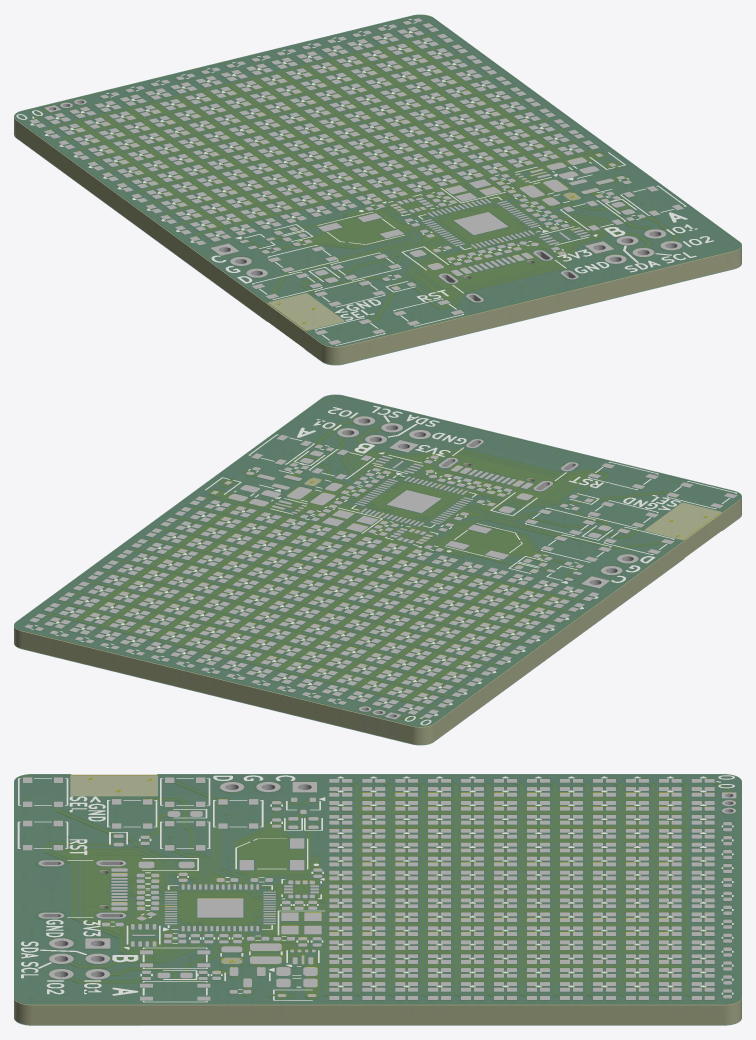
The model's file is superxbit192.glb.
The picture shows the model from 3 angles, top to bottom: view 1: azimuth 30°, elevation 25°; view 2: azimuth 150°, elevation 25°; view 3: azimuth 270°, elevation 25°; orthographic projection. The views are drawn at different scales.
Visible parts, largest first — view 1: =>[0:1:1:7], =>[0:1:1:2], =>[0:1:1:9], =>[0:1:1:5]; view 2: =>[0:1:1:7], =>[0:1:1:2], =>[0:1:1:9], =>[0:1:1:5]; view 3: =>[0:1:1:7], =>[0:1:1:2], =>[0:1:1:9], =>[0:1:1:5].
Boxes of the visible parts, x1,y1,x2,y2 form: =>[0:1:1:7]: (14,14,741,365); =>[0:1:1:2]: (29,18,683,344); =>[0:1:1:9]: (14,16,741,364); =>[0:1:1:5]: (16,19,741,345); =>[0:1:1:7]: (14,394,741,745); =>[0:1:1:2]: (25,416,736,719); =>[0:1:1:9]: (14,396,741,744); =>[0:1:1:5]: (30,405,737,725); =>[0:1:1:7]: (14,774,741,1025); =>[0:1:1:2]: (23,775,736,1000); =>[0:1:1:9]: (14,774,741,1024); =>[0:1:1:5]: (14,775,734,1025).
Size of the model in its own units: 0.0381 by 0.00166 by 0.0508.
4 materials, 4 textured.
